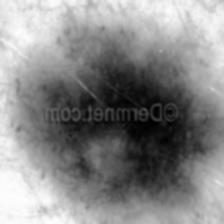Potentially Malignant Skin Tumors: (16, 22, 224, 214)
